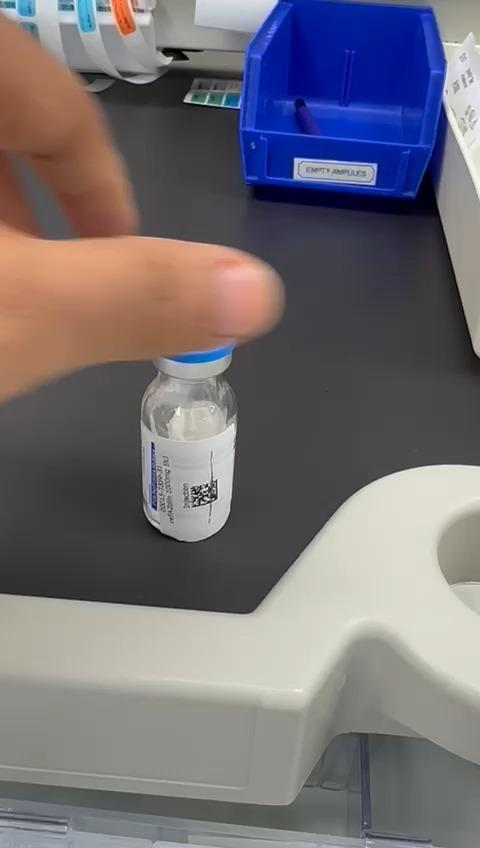cefazolin: (141, 343, 237, 542)
